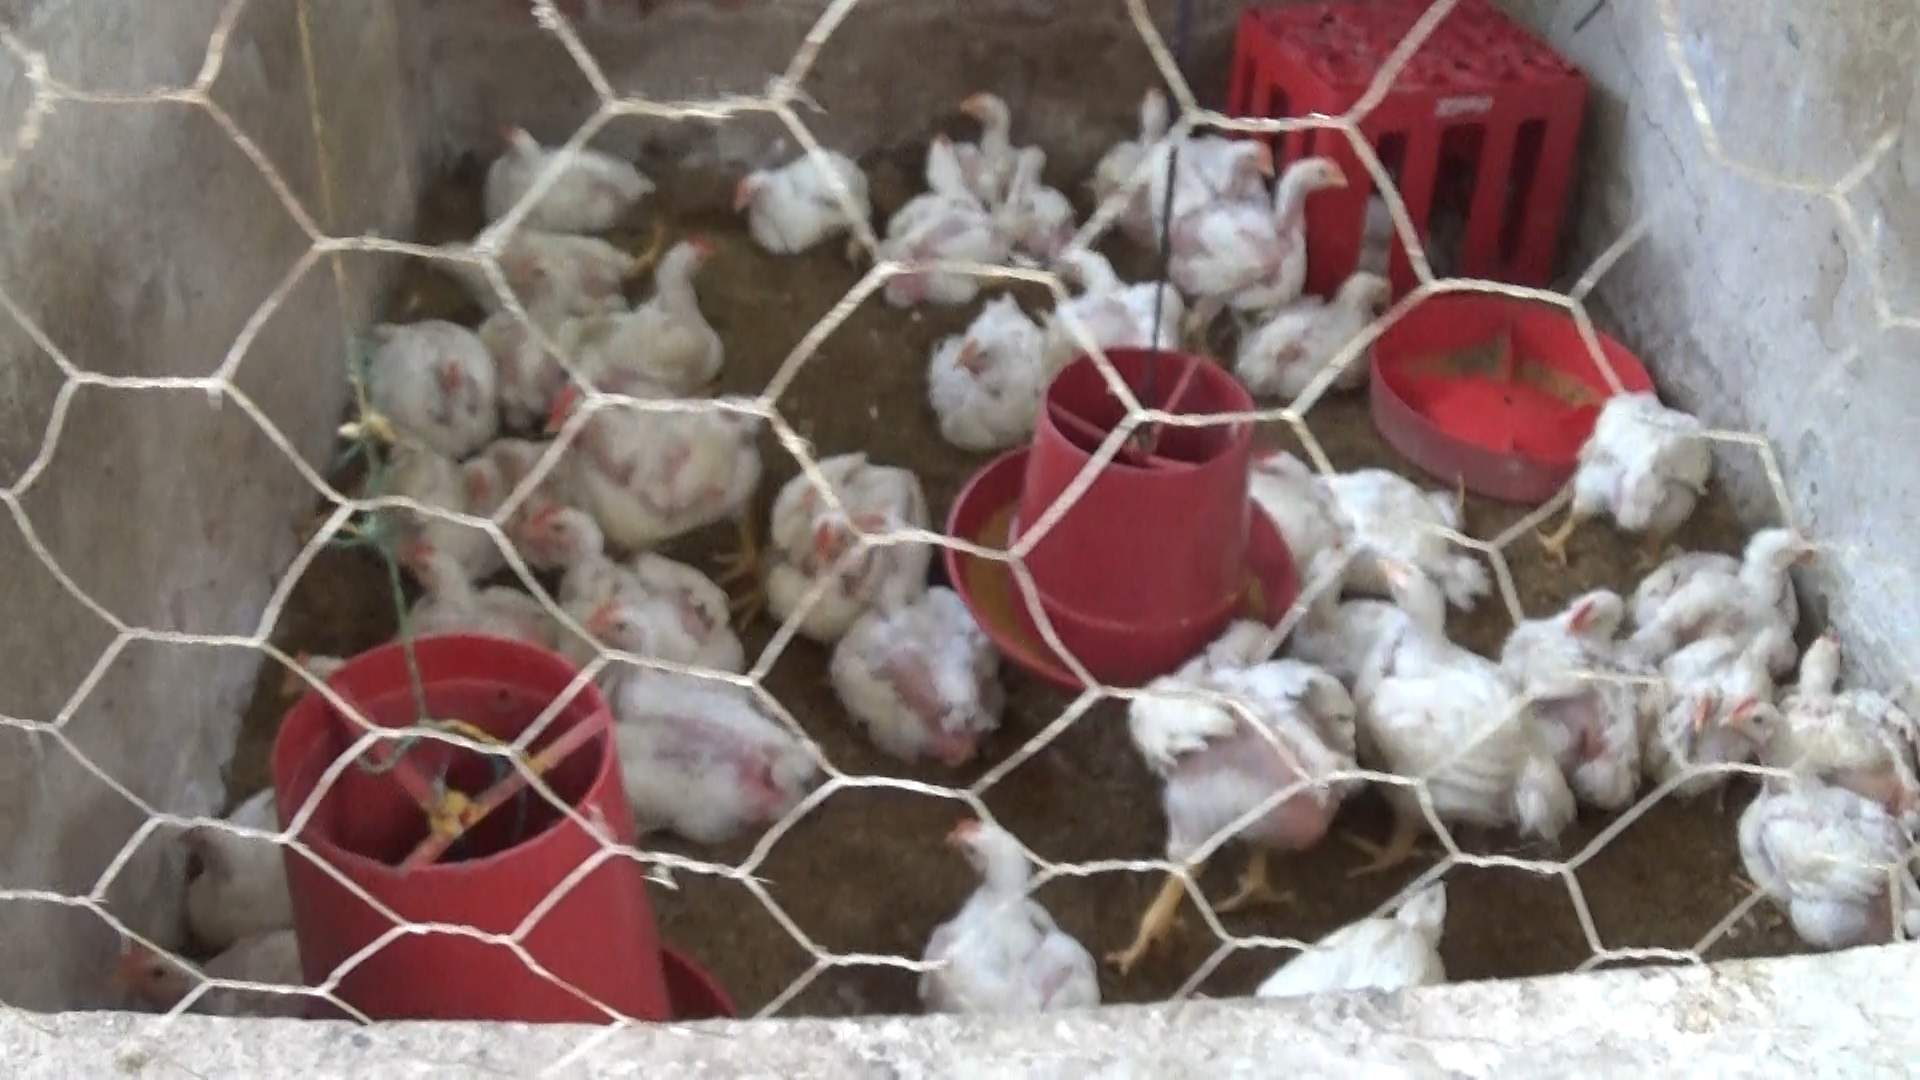Pollos: (551, 589, 822, 841), (1127, 603, 1369, 884), (1342, 589, 1568, 841), (1720, 671, 1920, 936), (1155, 149, 1369, 343), (923, 798, 1102, 1025), (535, 375, 771, 543), (517, 491, 742, 666), (756, 434, 924, 640), (1536, 380, 1720, 560), (845, 575, 1002, 779), (1622, 622, 1771, 812), (560, 229, 735, 392), (1625, 516, 1833, 637), (353, 291, 495, 448), (931, 80, 1077, 229), (1240, 277, 1410, 400), (920, 281, 1038, 452), (472, 117, 651, 229), (719, 137, 880, 261), (837, 195, 1015, 305), (1495, 576, 1629, 717), (477, 253, 607, 398), (382, 541, 539, 654), (1131, 117, 1284, 220), (1097, 76, 1182, 165)
